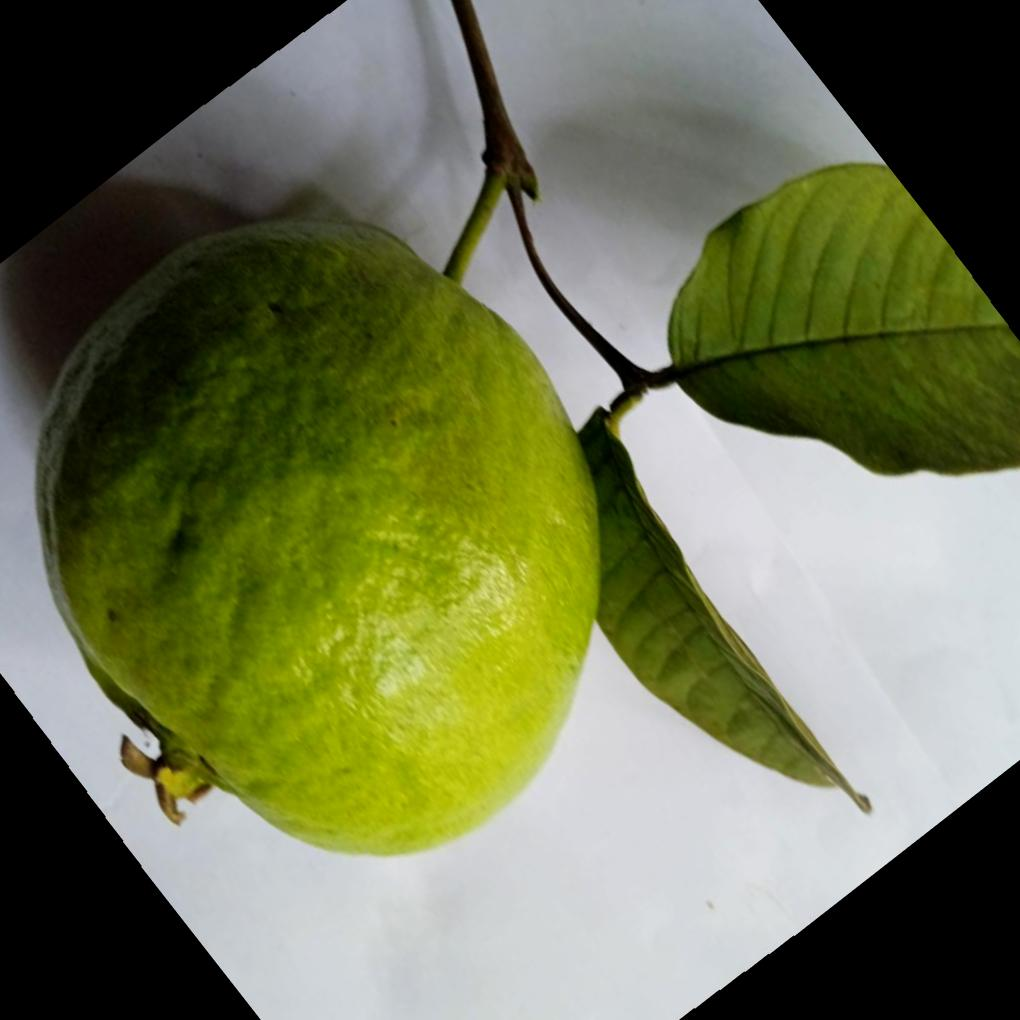FreshGuava: (34, 143, 836, 858)
